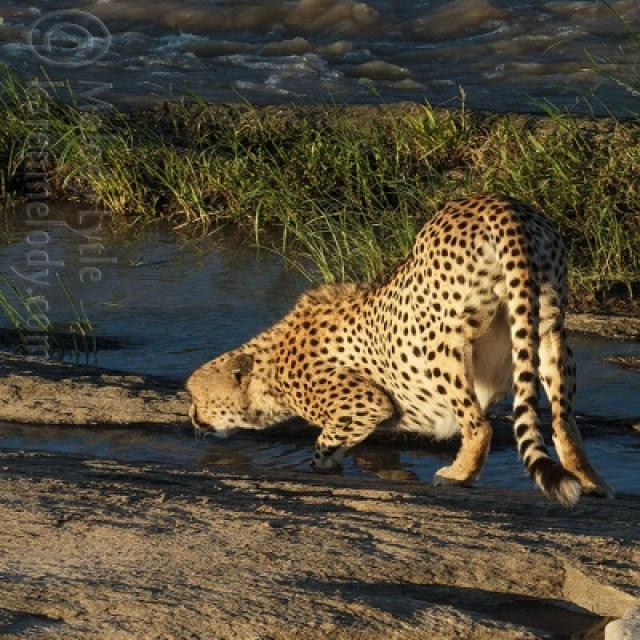Cheetah: (186, 195, 611, 510)
